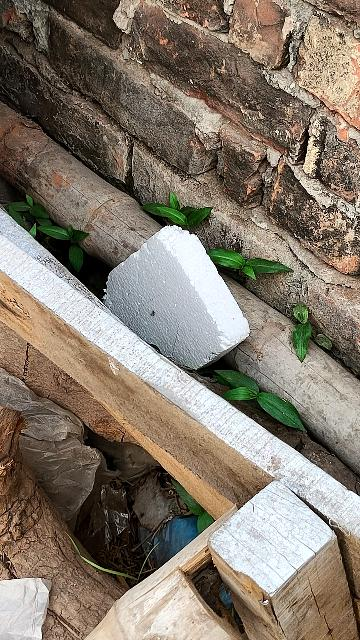cocksheet: (85, 213, 250, 390)
